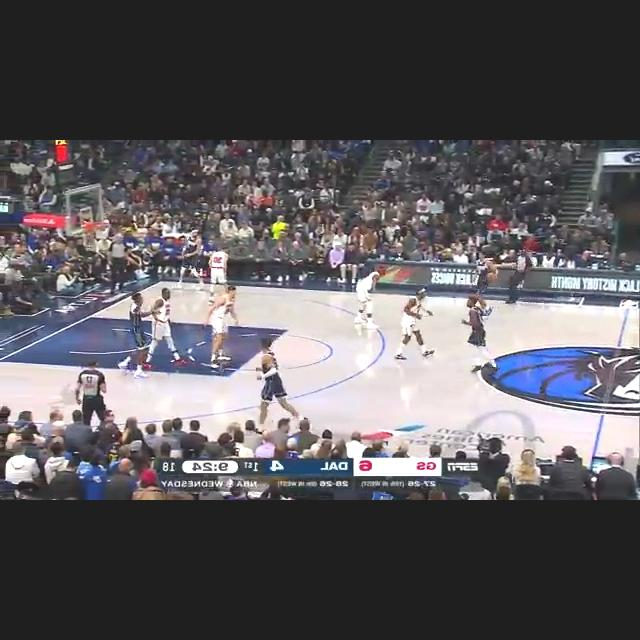Ball: (485, 271, 499, 285)
Team-1-Player: (252, 336, 306, 430), (117, 291, 157, 381), (457, 300, 501, 372), (466, 252, 498, 320), (174, 226, 206, 292)
Team-2-Player: (388, 288, 440, 364), (143, 286, 179, 372), (202, 288, 240, 368), (351, 266, 389, 330), (204, 242, 233, 302)
